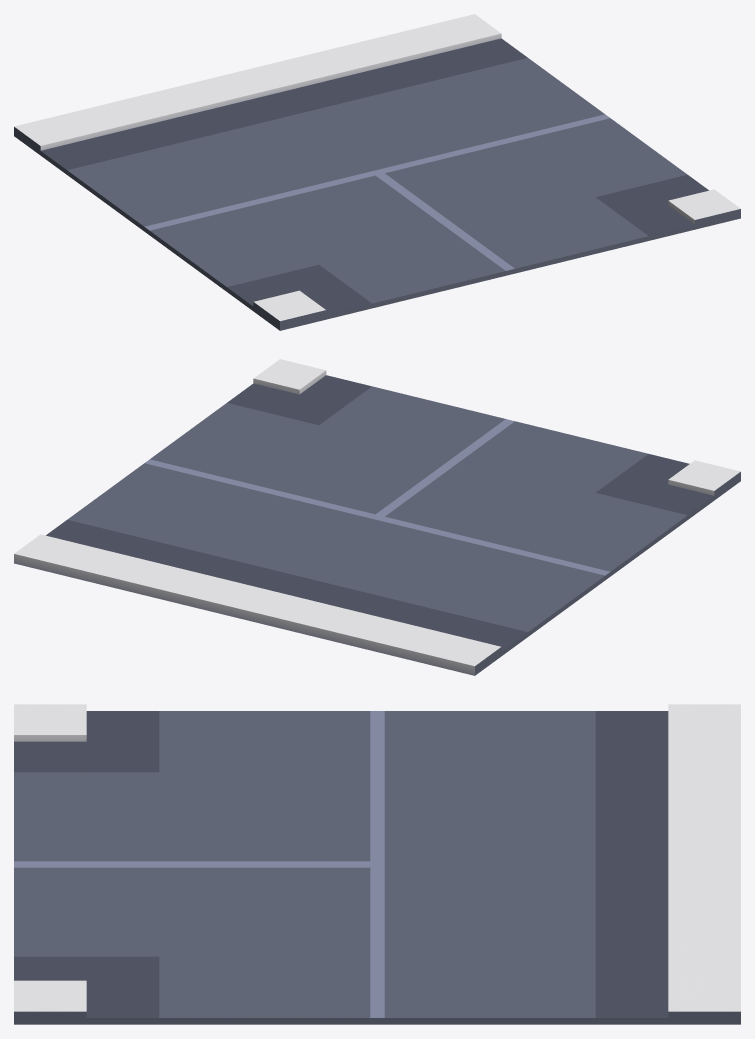
The model's file is road-intersection-line.glb.
3 renders of one model, top to bottom at view 1: azimuth 30°, elevation 25°; view 2: azimuth 150°, elevation 25°; view 3: azimuth 270°, elevation 25°, orthographic. The views are drawn at different scales.
Parts seen in each view (by area): view 1: road-intersection-line; view 2: road-intersection-line; view 3: road-intersection-line.
Part boxes in pixels (box(x1,y1,x2,y2)): road-intersection-line: box(14, 14, 740, 330); road-intersection-line: box(14, 359, 740, 675); road-intersection-line: box(14, 704, 740, 1024).
Size of the model in its own units: 1 by 0.02 by 1.
1 material, 1 textured.
